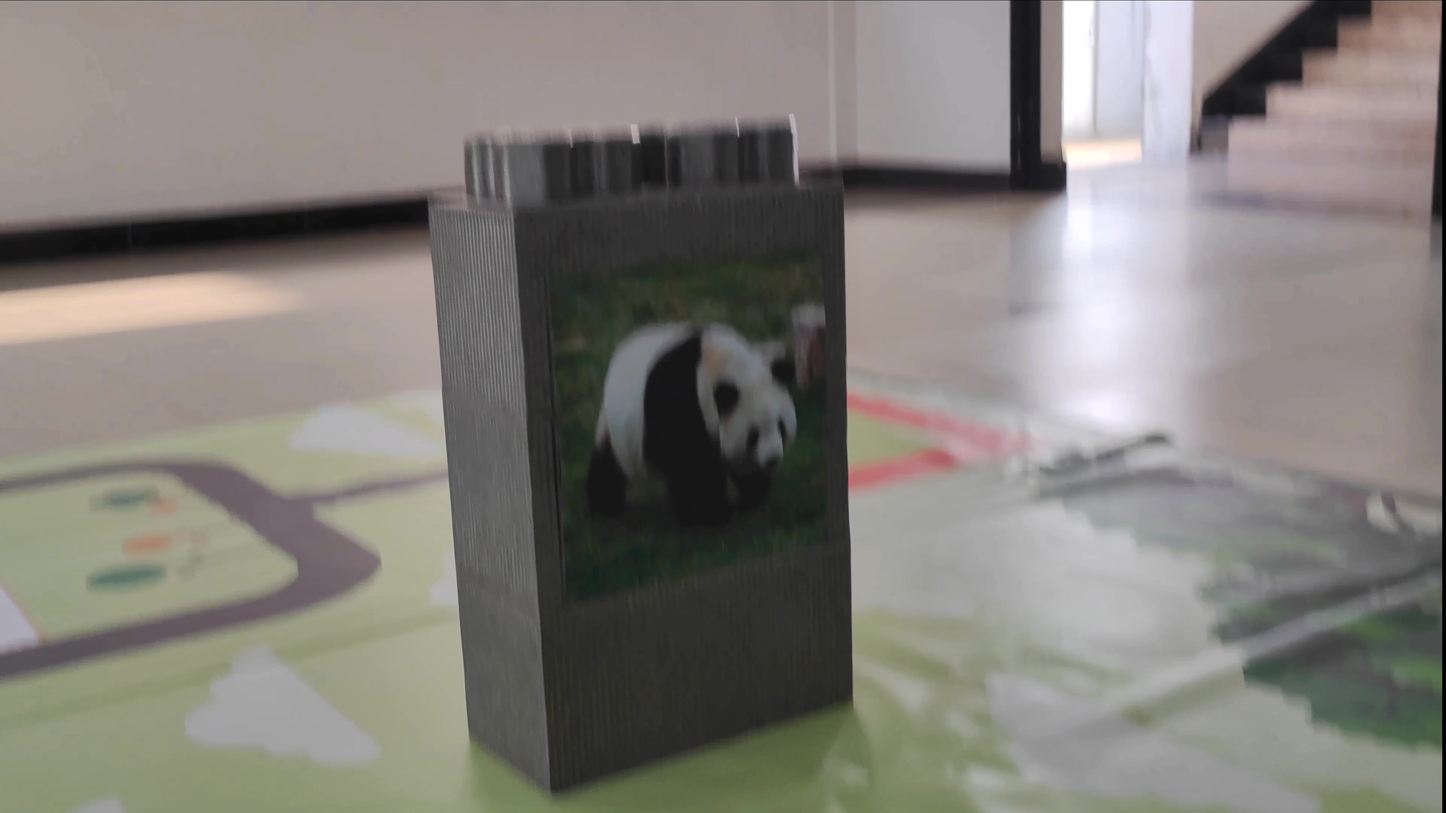panda: (549, 300, 830, 524)
